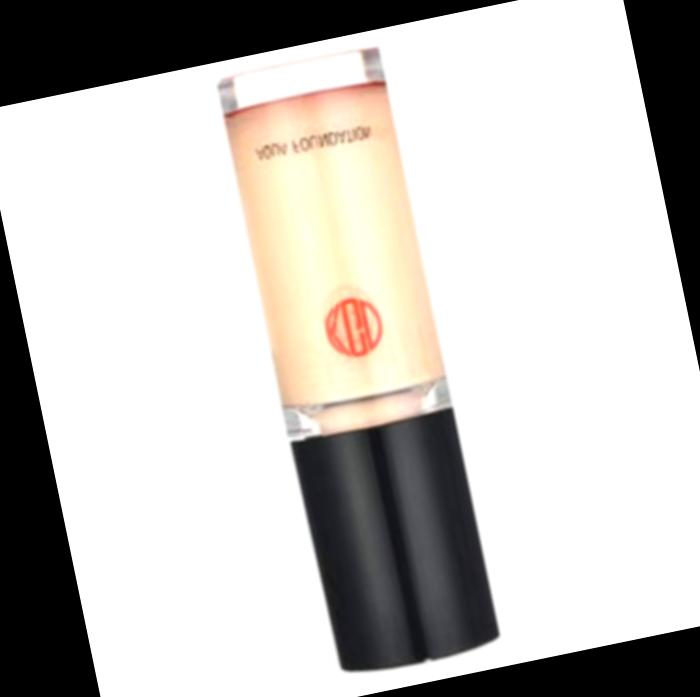cosmetic: (211, 40, 507, 679)
